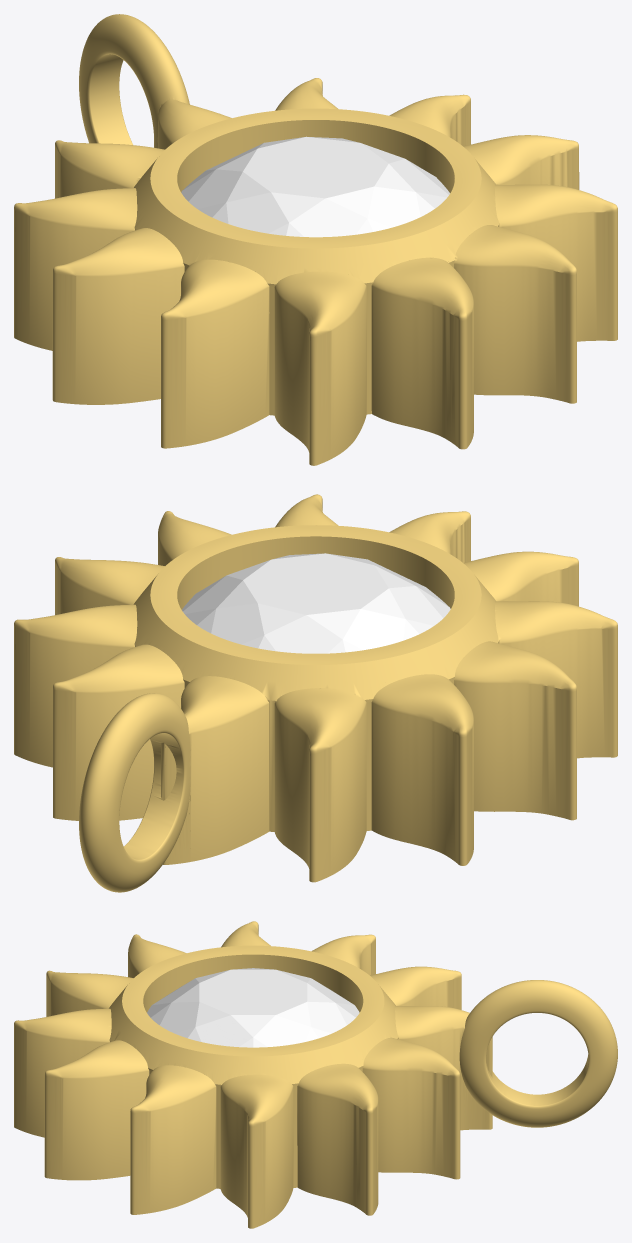
File: robinsonSunPendant_webgi.glb
3 views of the same model, one above another, from view 1: azimuth 30°, elevation 25°; view 2: azimuth 150°, elevation 25°; view 3: azimuth 270°, elevation 25° (orthographic). The views are drawn at different scales.
Parts seen in each view (by area): view 1: Robinson_Sun_Pendant001, Robinson_Sun_Pendant; view 2: Robinson_Sun_Pendant001, Robinson_Sun_Pendant; view 3: Robinson_Sun_Pendant001, Robinson_Sun_Pendant.
Part boxes in pixels (<box>): Robinson_Sun_Pendant001: <box>14,14,617,465</box>; Robinson_Sun_Pendant: <box>181,136,449,237</box>; Robinson_Sun_Pendant001: <box>14,494,617,892</box>; Robinson_Sun_Pendant: <box>182,553,450,653</box>; Robinson_Sun_Pendant001: <box>14,921,617,1228</box>; Robinson_Sun_Pendant: <box>147,968,359,1047</box>.
Size of the model in its own units: 2.43 by 0.8233 by 3.07.
